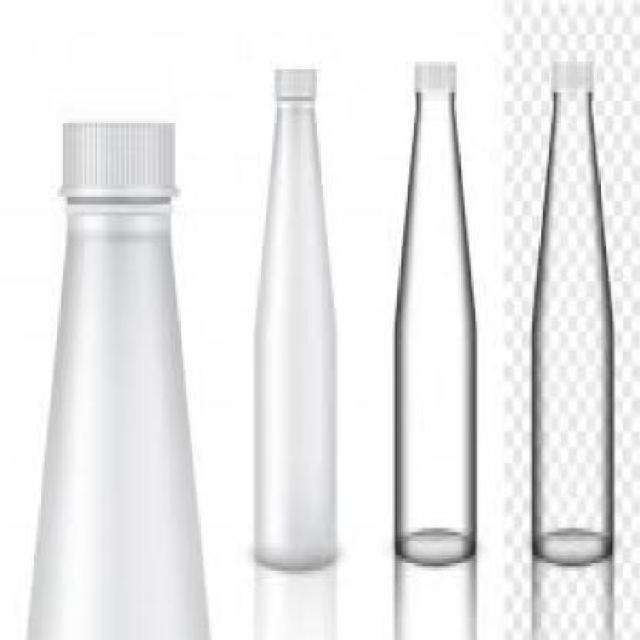kaca: (26, 201, 208, 637), (392, 89, 476, 563), (251, 97, 334, 563), (531, 92, 612, 563)
